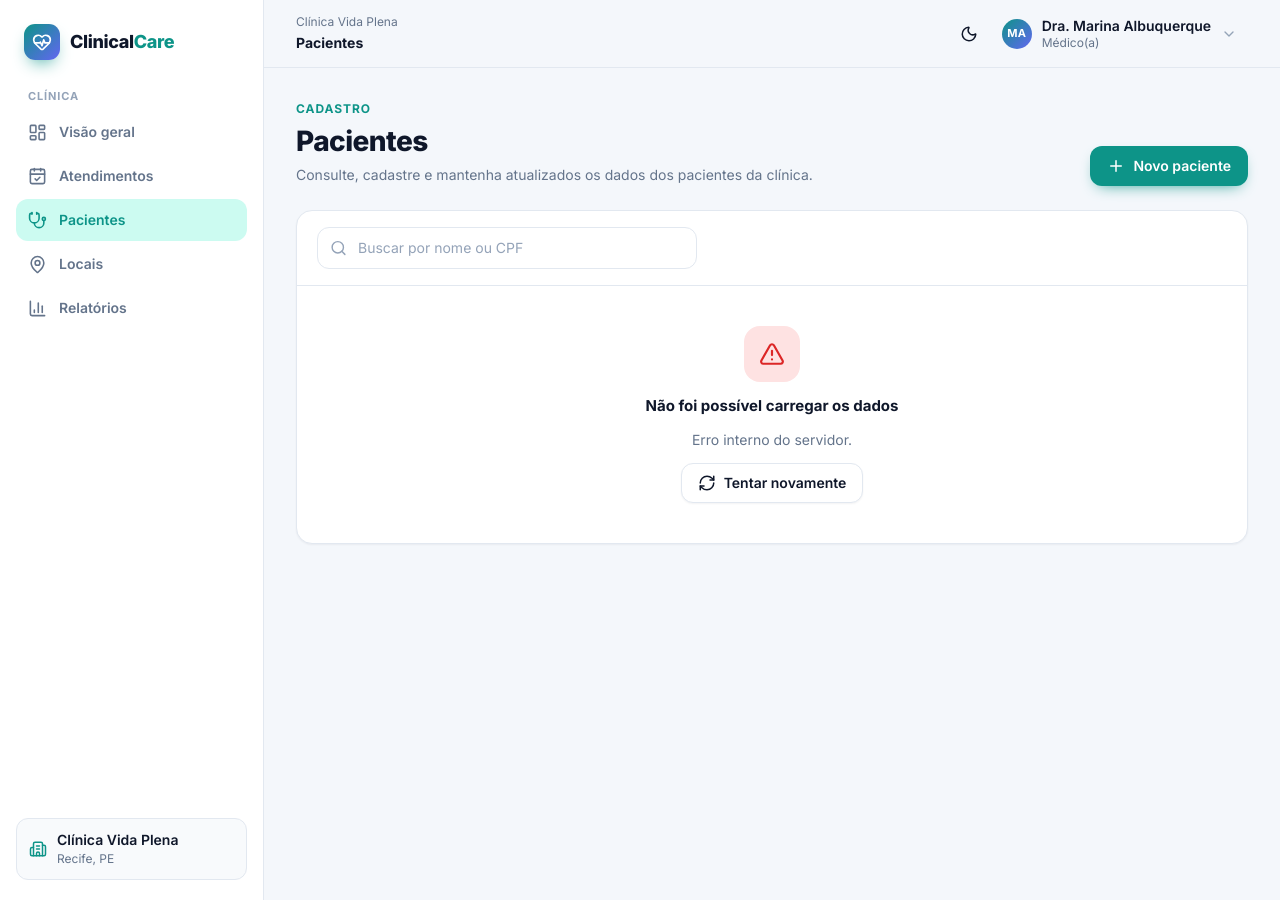
Test: pacientes › mostra estado de erro e permite tentar novamente
The width and height of the screenshot is (1280, 900).
Check: the message shows "Erro interno do servidor.", box left=692, top=431, right=852, bottom=448
Click the button "Tentar novamente" at [772, 483], box left=681, top=463, right=863, bottom=503
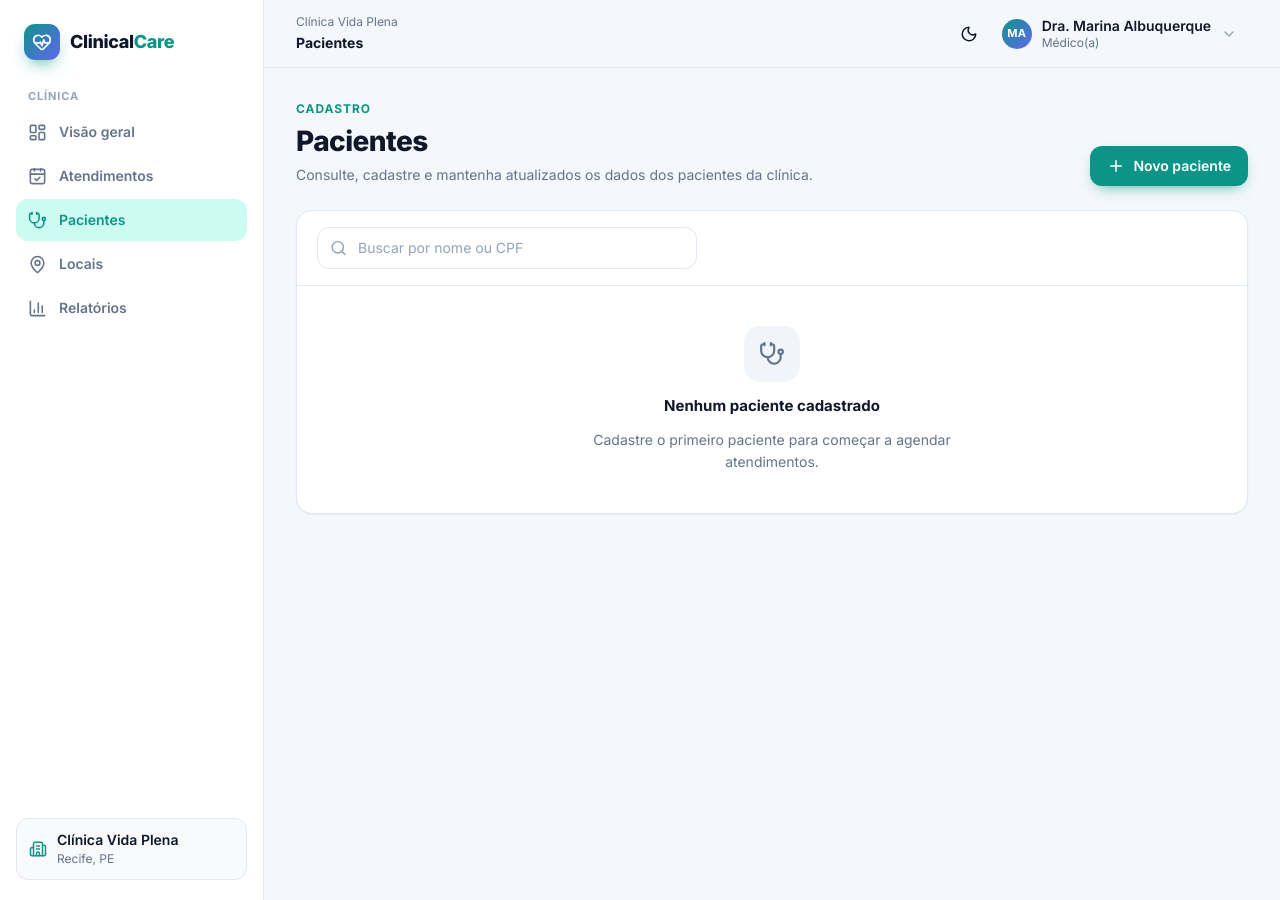
Check: the text "Nenhum paciente cadastrado" is shown, box left=664, top=394, right=880, bottom=417
